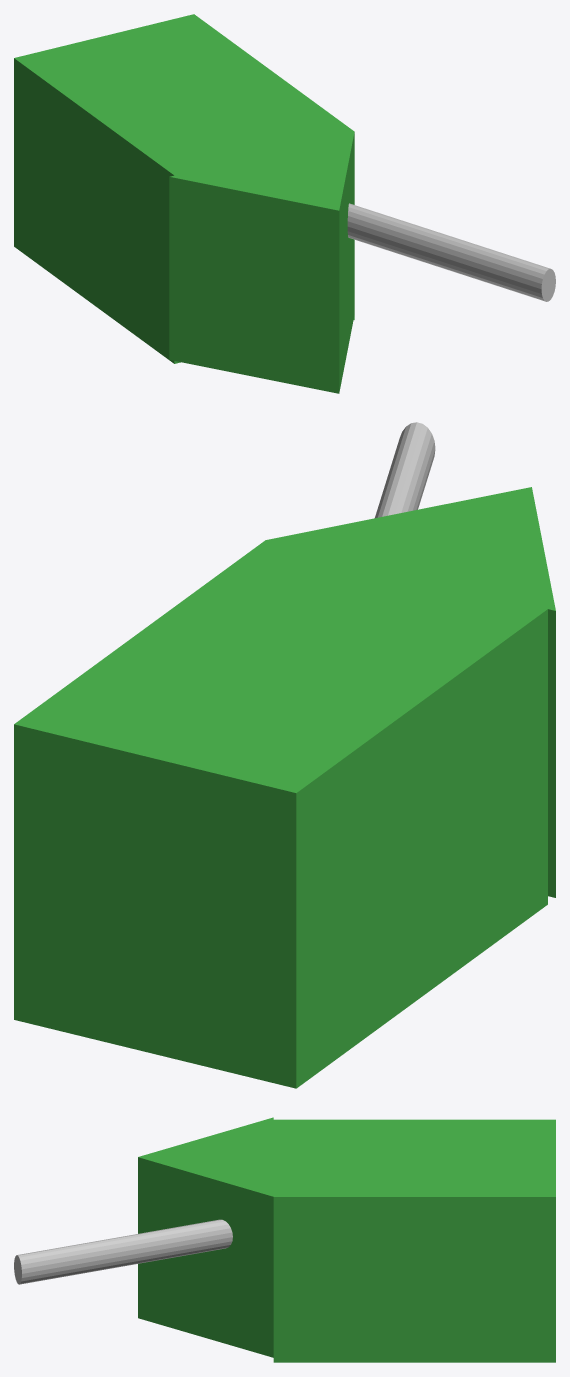
Rendered from tinker.obj.
3 renders of one model, top to bottom at view 1: azimuth 30°, elevation 25°; view 2: azimuth 150°, elevation 25°; view 3: azimuth 270°, elevation 25°, orthographic. The views are drawn at different scales.
Visible parts, largest first — view 1: group_0_4634441, group_0_16448250; view 2: group_0_4634441, group_0_16448250; view 3: group_0_4634441, group_0_16448250.
Part boxes in pixels (x1=…): group_0_4634441: x1=14, y1=14, x2=354, y2=393; group_0_16448250: x1=347, y1=203, x2=555, y2=301; group_0_4634441: x1=14, y1=487, x2=555, y2=1088; group_0_16448250: x1=375, y1=422, x2=435, y2=518; group_0_4634441: x1=138, y1=1117, x2=555, y2=1362; group_0_16448250: x1=14, y1=1219, x2=232, y2=1284.
Bounding box in the file's own units: 47.32 × 35 × 104.
